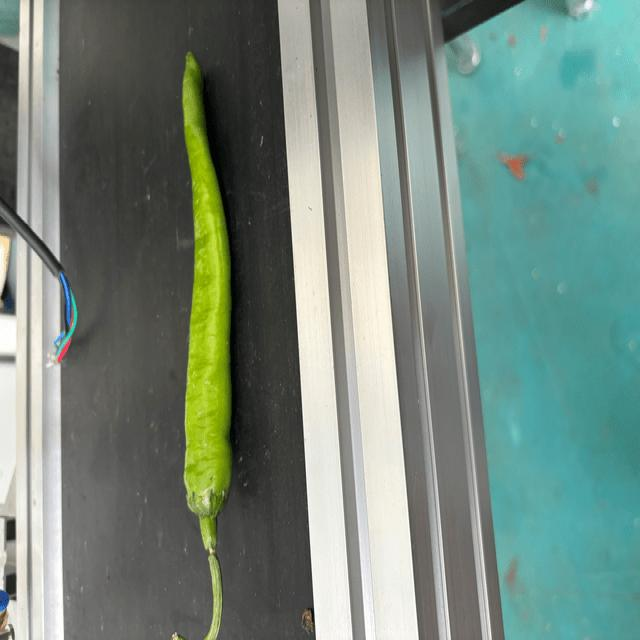chili: (181, 48, 236, 521)
